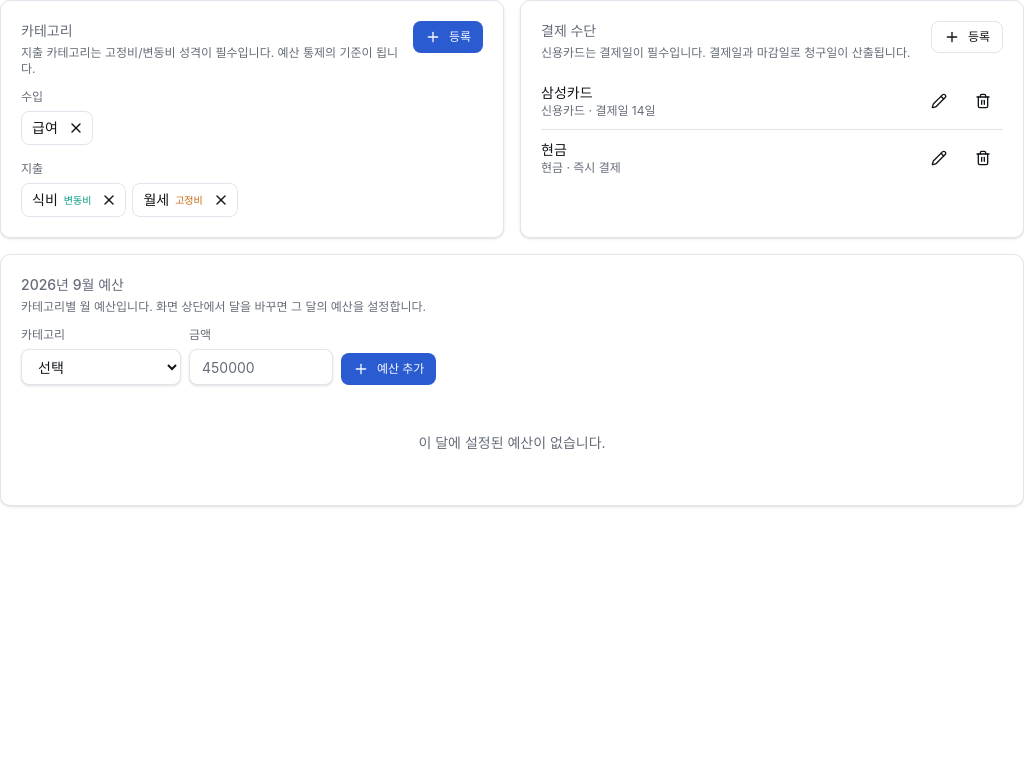
Test: SettingsPage - 카테고리·결제 수단 관리 › 카테고리 › 참조가 남아 삭제할 수 없으면 서버 메시지를 보여준다
Expected: the button titled "식비 수정" is shown, [32,186,91,214]
What coordinates should you click on to do the following:
click the button named "식비 삭제"
I would click on:
 (109, 200)
Its box is [95,186,123,214].
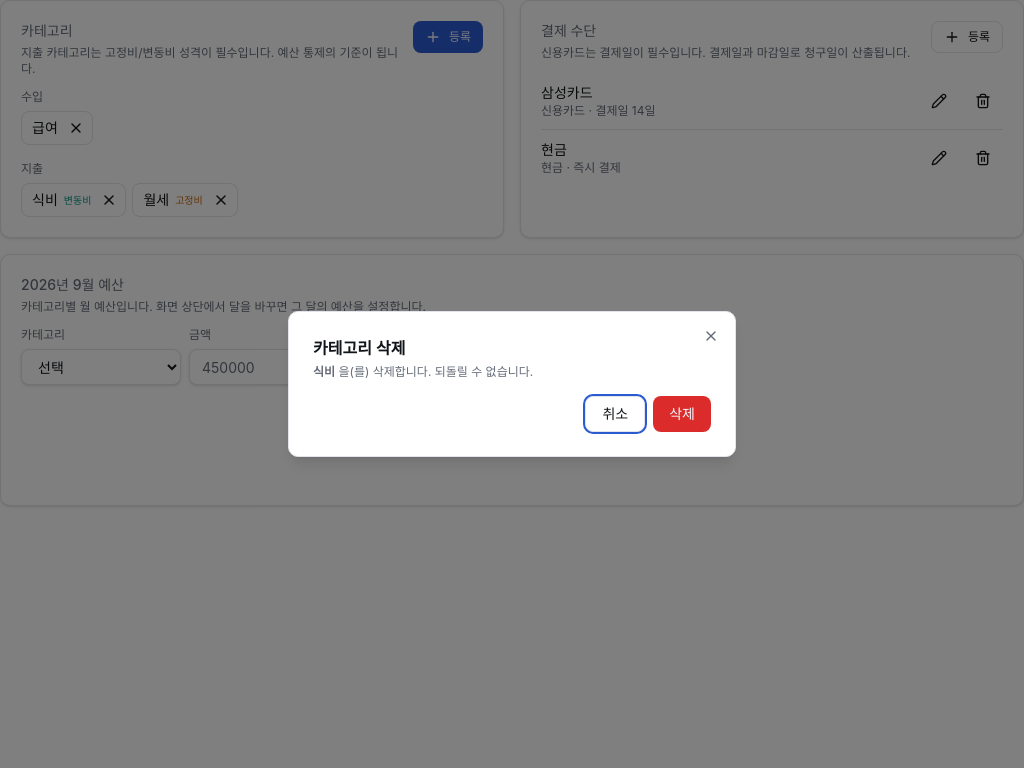
What coordinates should you click on to do the following:
click the button "삭제"
I would click on:
 (682, 414)
Its box is [653,396,711,432].
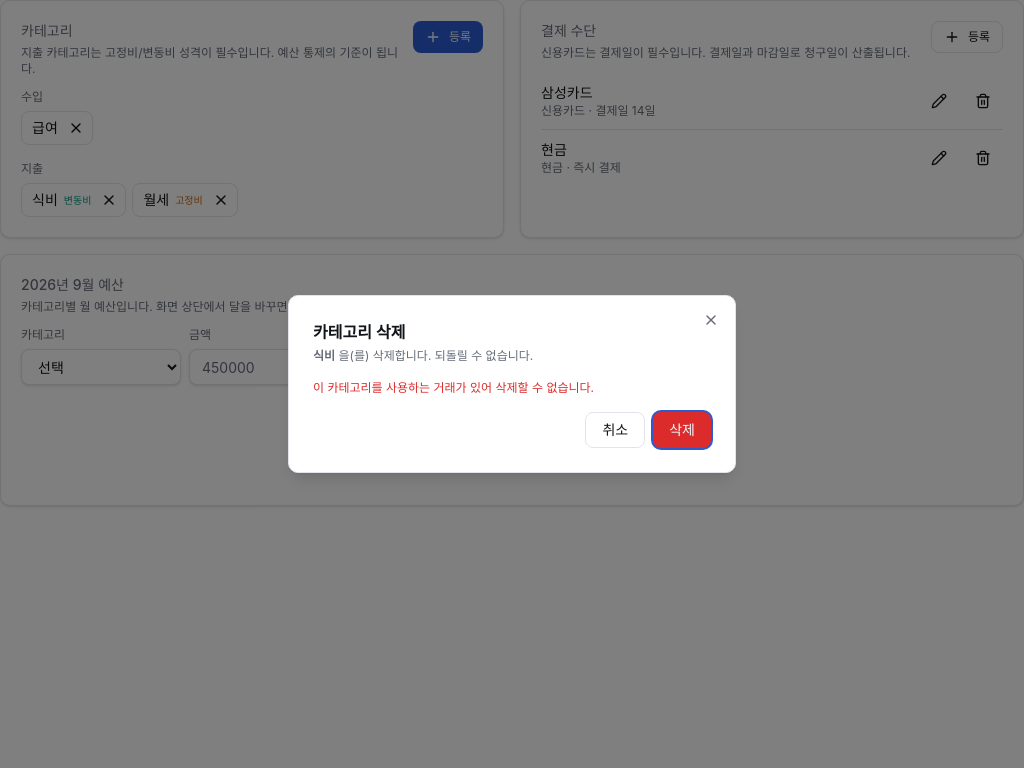
Expected: the text "이 카테고리를 사용하는 거래가 있어 삭제할 수 없습니다." is shown, [313,380,594,395]
